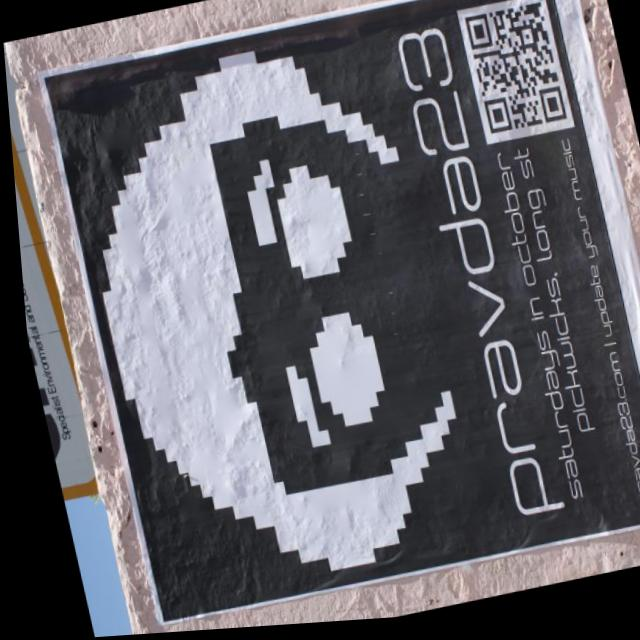qrcode: (464, 9, 565, 143)
